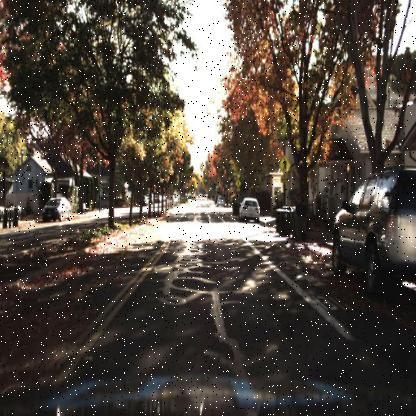car: (330, 168, 415, 297), (43, 192, 72, 224), (42, 196, 71, 222), (236, 196, 260, 222), (240, 197, 258, 221), (216, 194, 226, 210)
